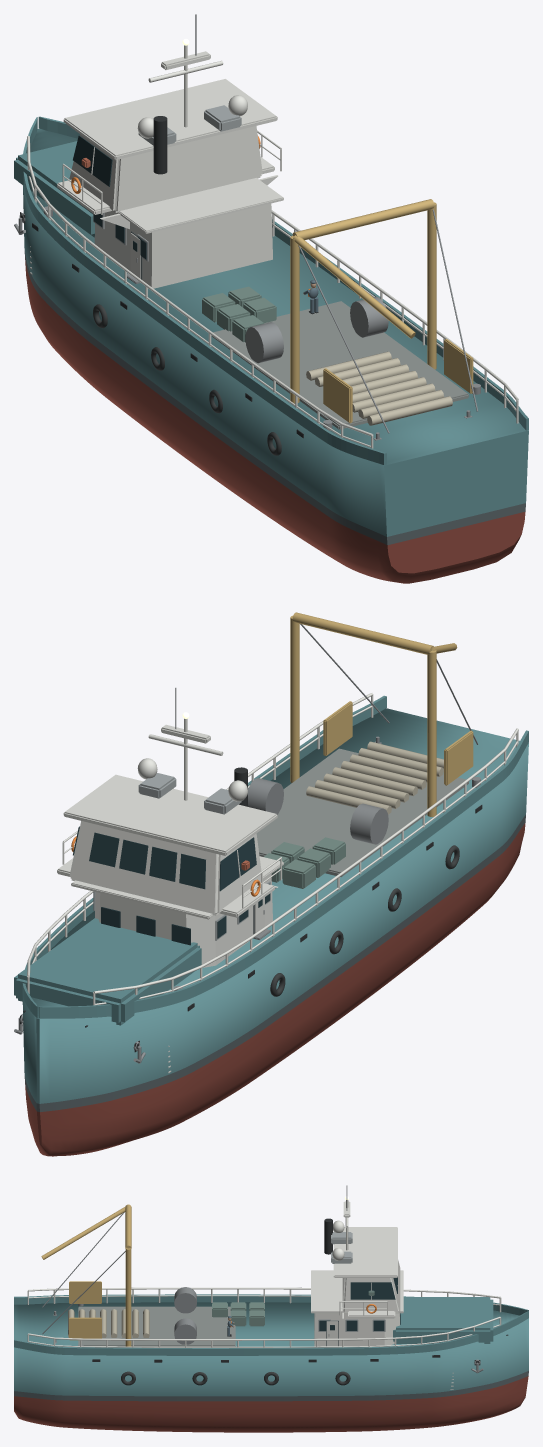
File: fishing.glb
3 views of the same model, one above another, from view 1: azimuth 30°, elevation 25°; view 2: azimuth 150°, elevation 25°; view 3: azimuth 270°, elevation 25° (orthographic). The views are drawn at different scales.
Visible parts, largest first — view 1: hull, white, bottom, ochre, deck, sand, stripe, metal, green, window, black, frame (+1 smaller); view 2: hull, white, bottom, deck, ochre, window, sand, stripe, metal, green, frame, rubber; view 3: hull, bottom, white, deck, stripe, ochre, metal, window, sand, green, frame, rubber (+1 smaller).
Boxes of the visible parts, x1,y1,x2,y2 form: hull: [14, 116, 528, 536]; white: [27, 45, 518, 448]; bottom: [25, 259, 525, 583]; ochre: [290, 199, 473, 423]; deck: [212, 301, 468, 429]; sand: [306, 351, 452, 425]; stripe: [24, 231, 525, 545]; metal: [14, 14, 480, 440]; green: [202, 286, 276, 342]; window: [73, 135, 146, 259]; black: [20, 116, 318, 438]; frame: [93, 105, 241, 261]; hull: [14, 695, 528, 1103]; white: [27, 693, 518, 1073]; bottom: [25, 823, 525, 1156]; deck: [256, 748, 468, 876]; ochre: [290, 612, 473, 816]; window: [73, 826, 270, 945]; sand: [306, 741, 443, 814]; stripe: [24, 815, 525, 1111]; metal: [14, 624, 480, 1063]; green: [264, 837, 345, 888]; frame: [93, 773, 270, 940]; rubber: [270, 845, 459, 996]; hull: [14, 1294, 528, 1396]; bottom: [14, 1376, 528, 1432]; white: [27, 1200, 501, 1389]; deck: [78, 1306, 235, 1347]; stripe: [14, 1320, 528, 1401]; ochre: [41, 1204, 131, 1346]; metal: [42, 1185, 483, 1373]; window: [319, 1277, 400, 1330]; sand: [68, 1309, 149, 1337]; green: [212, 1290, 374, 1326]; frame: [318, 1232, 385, 1331]; rubber: [121, 1371, 350, 1385].
Bounding box in the file's own units: 9.08 × 18.1 × 36.
